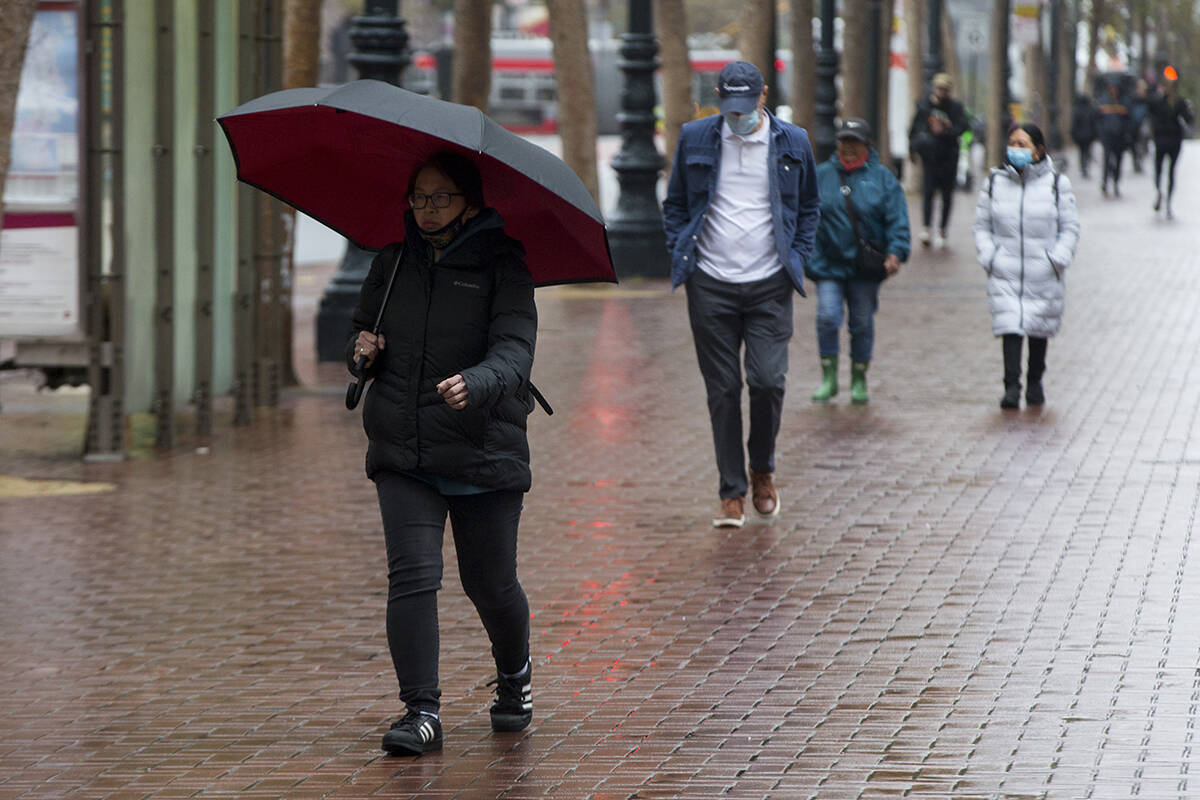person: (350, 153, 538, 760), (671, 62, 815, 530), (973, 121, 1076, 413), (809, 116, 910, 407)
